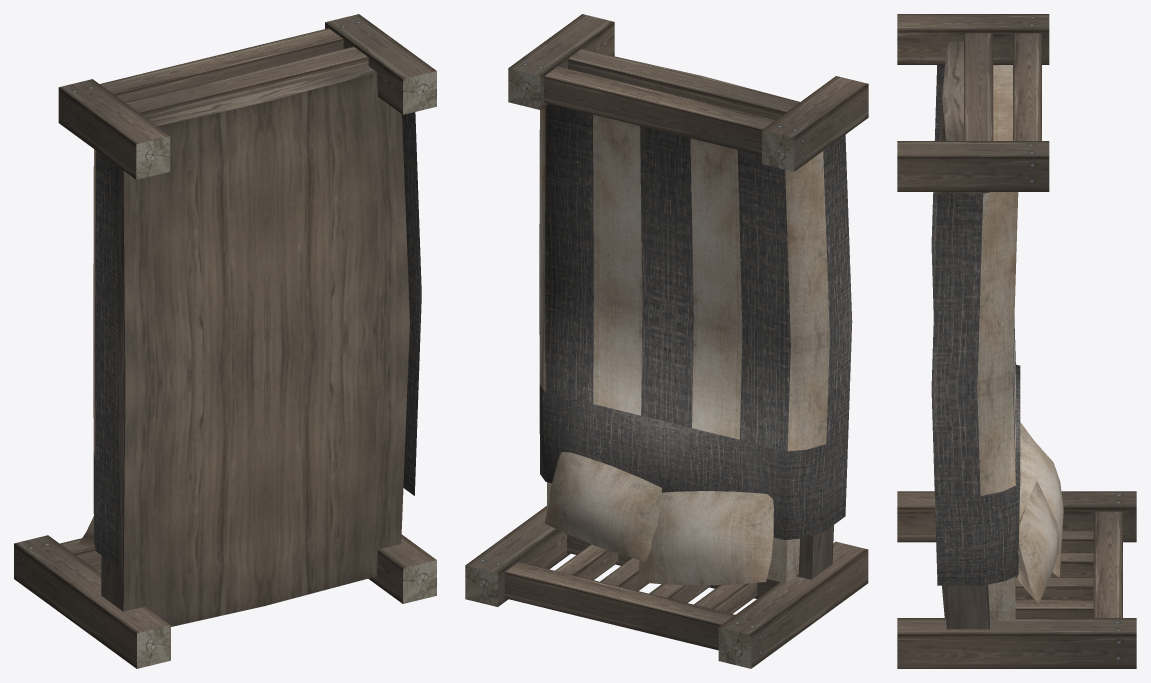
File: Bed_02_A.fbx
The picture shows the model from 3 angles, left to right: view 1: azimuth 30°, elevation 25°; view 2: azimuth 150°, elevation 25°; view 3: azimuth 270°, elevation 25°; orthographic projection. The views are drawn at different scales.
Parts seen in each view (by area): view 1: Bed_02_A; view 2: Bed_02_A; view 3: Bed_02_A.
Part boxes in pixels (bbox=[...]): Bed_02_A: bbox=[14, 14, 436, 668]; Bed_02_A: bbox=[465, 14, 868, 668]; Bed_02_A: bbox=[897, 14, 1136, 668].
Bounding box in the file's own units: 2.21 × 3.65 × 1.55.
